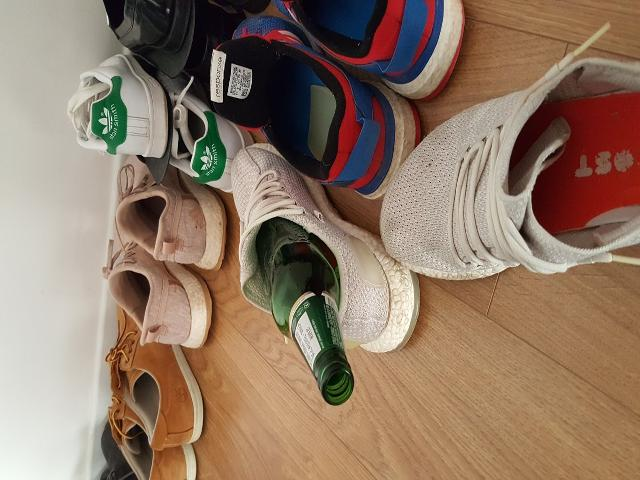beer: (252, 216, 354, 405)
